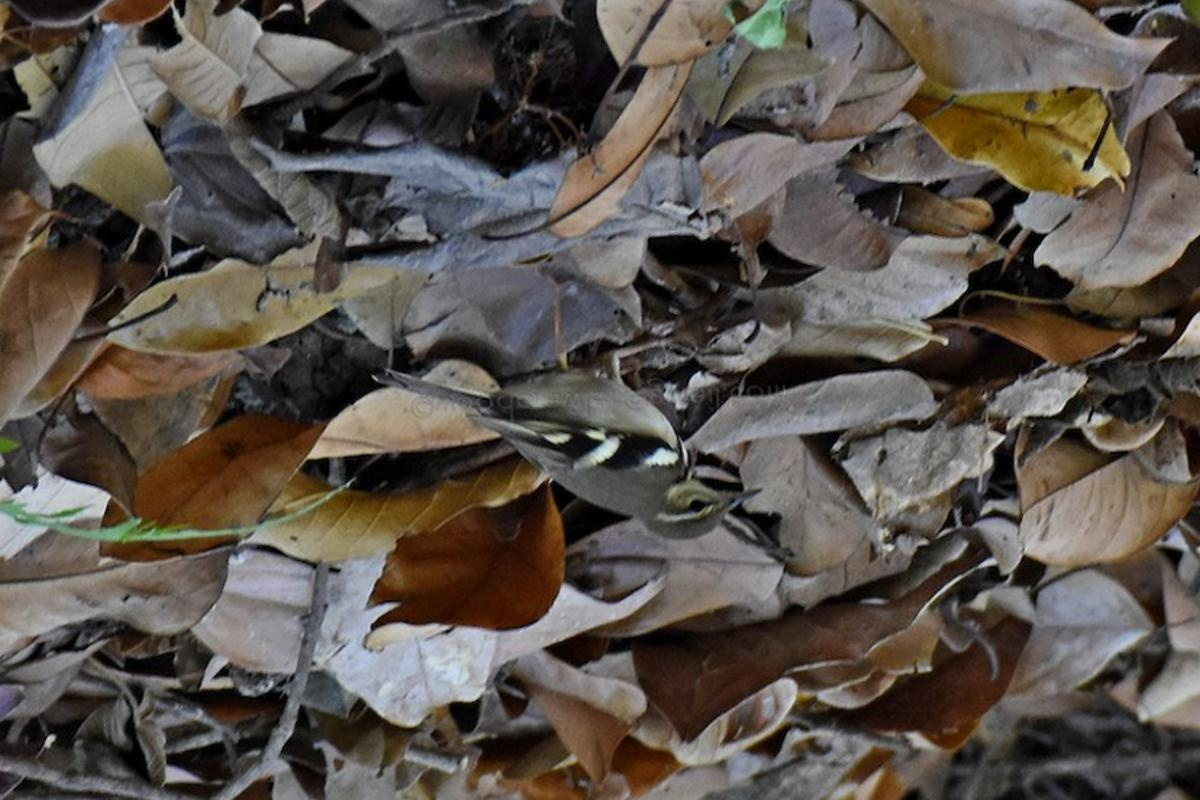wagtail: (388, 296, 757, 538)
